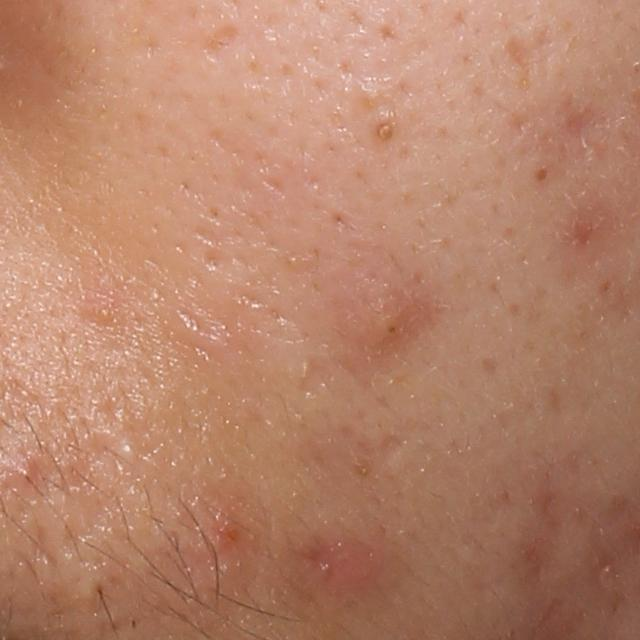atrophic_scar: (522, 479, 574, 576), (560, 94, 607, 147), (200, 20, 242, 65), (298, 353, 336, 400), (372, 432, 408, 467), (503, 35, 532, 70)
comedo: (370, 113, 400, 148), (527, 158, 555, 188), (97, 305, 113, 323)
papule: (327, 546, 385, 592), (363, 294, 415, 344), (3, 451, 46, 491), (209, 515, 247, 555)
